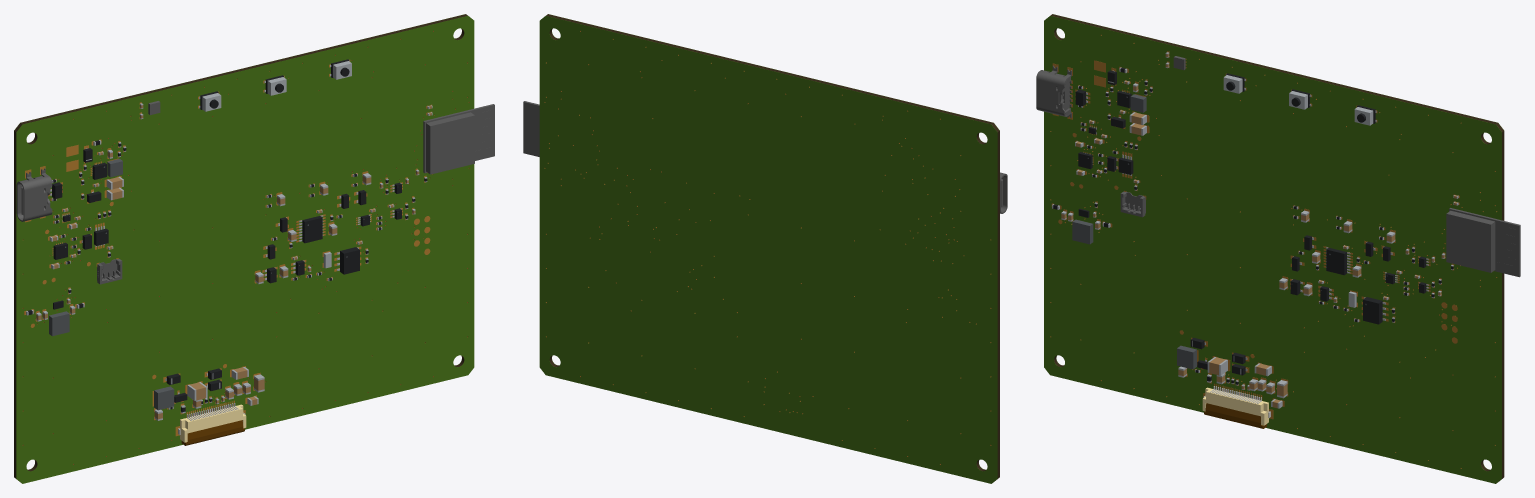
Rendered from finished.glb.
The picture shows the model from 3 angles, left to right: view 1: azimuth 30°, elevation 25°; view 2: azimuth 150°, elevation 25°; view 3: azimuth 330°, elevation 25°; orthographic projection.
Visible parts, largest first — view 1: PCB_1mm, U201, Exposed_lands, J301, J101, U405, J102, U403; view 2: PCB_1mm, U201; view 3: PCB_1mm, U201, Exposed_lands, J301, J101, U405, J102, U403.
Part boxes in pixels (x1,y1,x2,y2): PCB_1mm: [14, 14, 474, 483]; U201: [423, 104, 494, 174]; Exposed_lands: [24, 59, 432, 436]; J301: [178, 403, 246, 445]; J101: [16, 168, 52, 221]; U405: [299, 215, 323, 243]; J102: [97, 259, 122, 284]; U403: [337, 247, 359, 274]; PCB_1mm: [539, 14, 999, 483]; U201: [523, 101, 539, 156]; PCB_1mm: [1044, 14, 1504, 483]; U201: [1446, 208, 1520, 277]; Exposed_lands: [1051, 51, 1459, 419]; J301: [1202, 386, 1270, 428]; J101: [1036, 65, 1071, 117]; U405: [1326, 247, 1350, 275]; J102: [1120, 191, 1145, 217]; U403: [1363, 297, 1385, 324].
Bounding box in the file's own units: 0.1167 × 0.084 × 0.00434.
